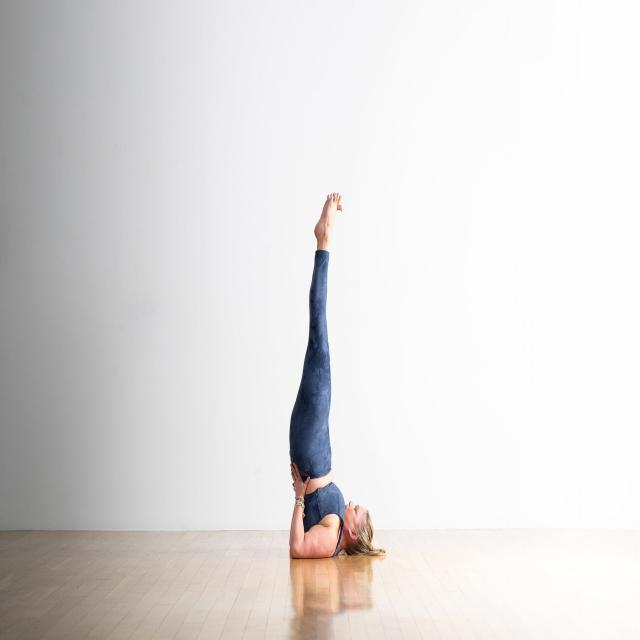yoga-pose shoulderstand: (278, 188, 376, 565)
